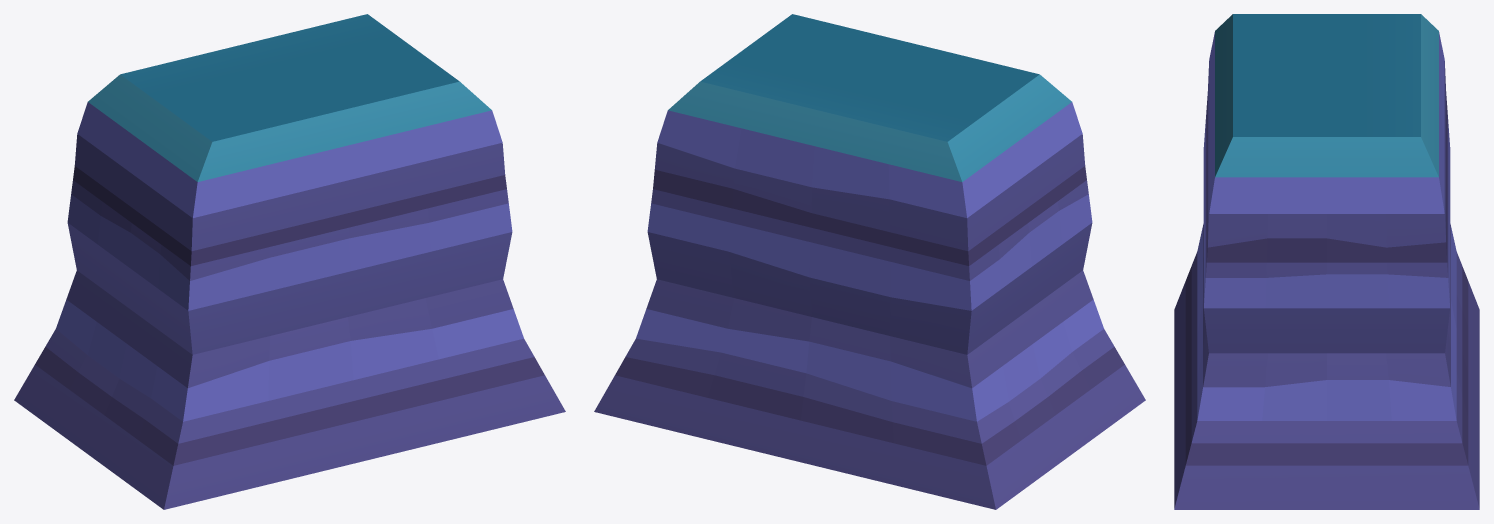
File: StoneWall023.fbx
The picture shows the model from 3 angles, left to right: view 1: azimuth 30°, elevation 25°; view 2: azimuth 150°, elevation 25°; view 3: azimuth 270°, elevation 25°; orthographic projection.
Parts seen in each view (by area): view 1: StoneWall023; view 2: StoneWall023; view 3: StoneWall023.
Boxes of the visible parts, left/top/right/bottom form: StoneWall023: left=14, top=14, right=565, bottom=509; StoneWall023: left=594, top=14, right=1145, bottom=509; StoneWall023: left=1174, top=14, right=1479, bottom=509.
Size of the model in its own units: 537 by 418 by 347.
